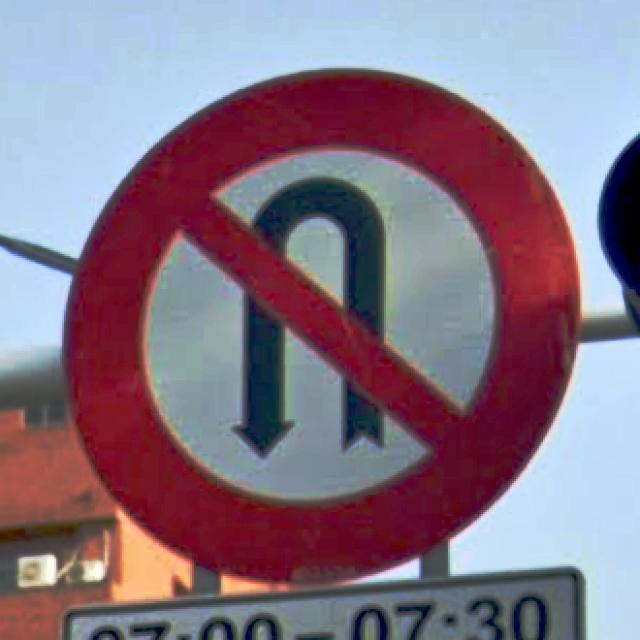nouturn: (64, 70, 584, 586)
